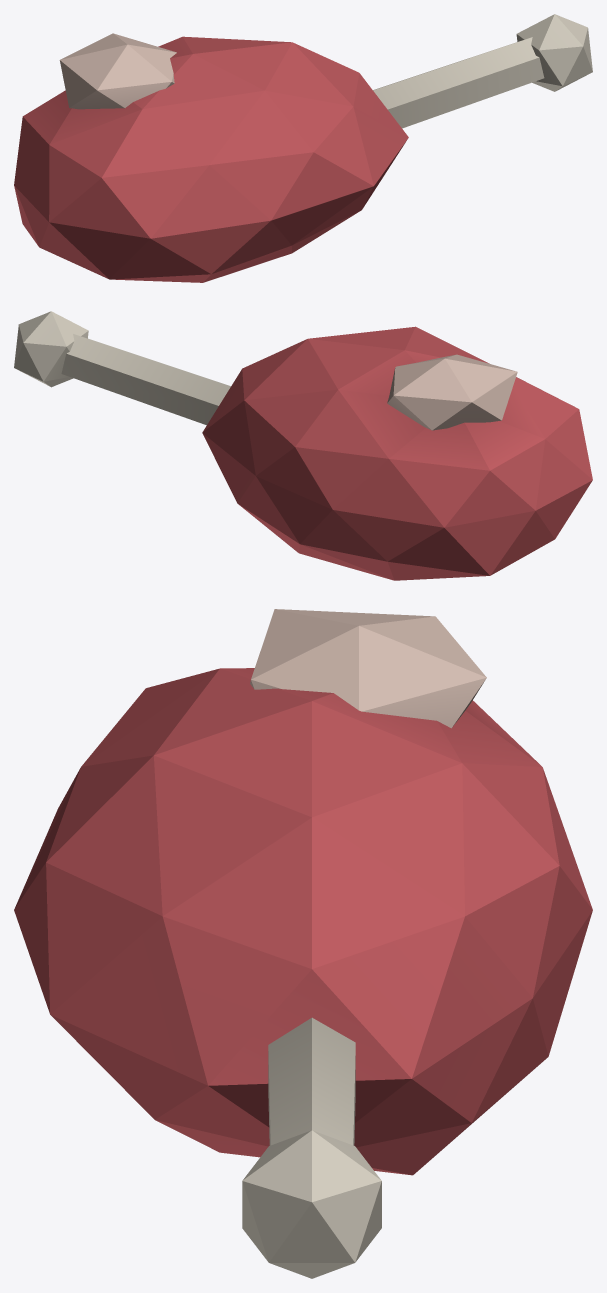
Rendered from MeatRaw.fbx.
3 renders of one model, top to bottom at view 1: azimuth 30°, elevation 25°; view 2: azimuth 150°, elevation 25°; view 3: azimuth 270°, elevation 25°, orthographic. The views are drawn at different scales.
Parts seen in each view (by area): view 1: MeatRaw; view 2: MeatRaw; view 3: MeatRaw.
Boxes of the visible parts, x1=… form: MeatRaw: x1=14, y1=14, x2=592, y2=282; MeatRaw: x1=14, y1=311, x2=592, y2=580; MeatRaw: x1=14, y1=609, x2=592, y2=1278.
Size of the model in its own units: 0.5295 by 0.2102 by 0.2469.
